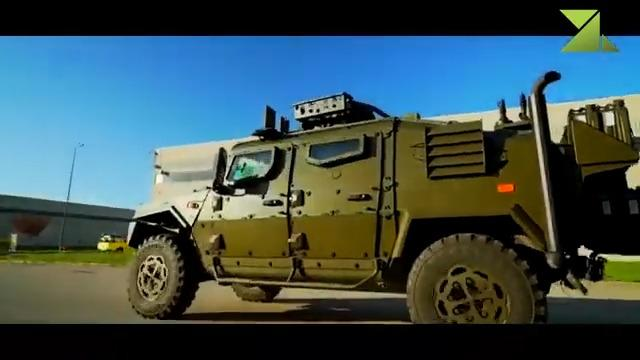MIL_HMMWV: (126, 69, 640, 324)
